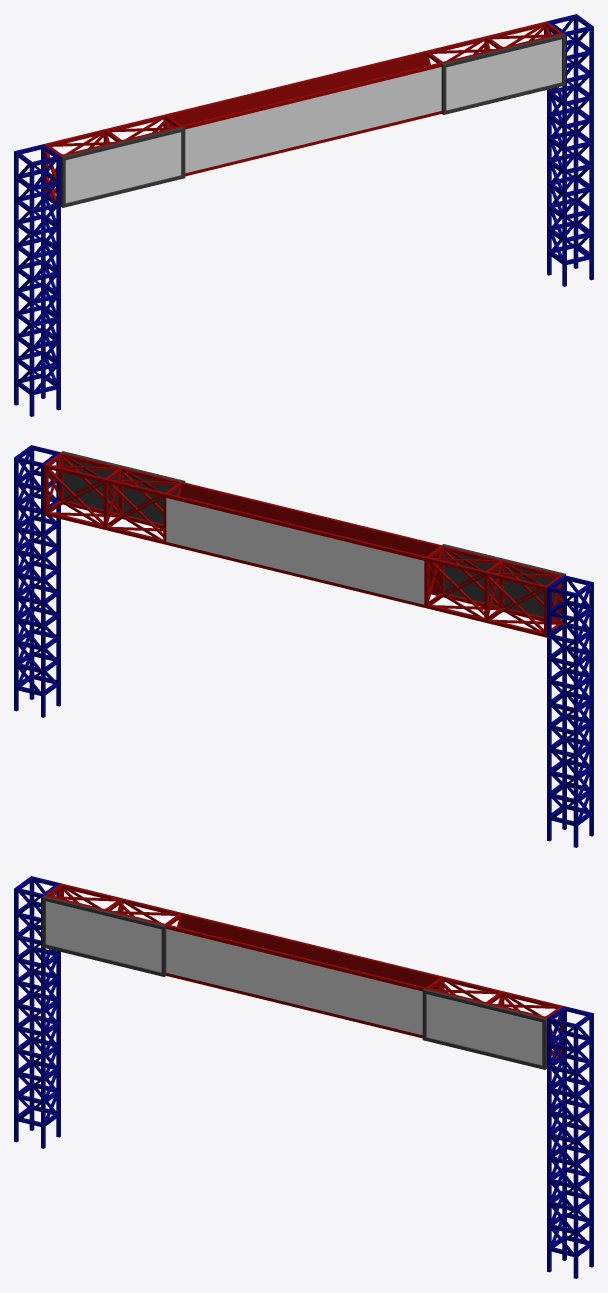
The model's file is start.glb.
3 renders of one model, top to bottom at view 1: azimuth 30°, elevation 25°; view 2: azimuth 150°, elevation 25°; view 3: azimuth 330°, elevation 25°, orthographic.
Parts seen in each view (by area): view 1: Starting Line_Starting Sign Mat 1_0, Starting Line_Start Texture_0, Starting Line_Starting Sign Mat 2_0, Starting Line_Ad 1_0, Starting Line_Ad 2_0, Starting Line_Starting Sign Mat 3_0; view 2: Starting Line_Starting Sign Mat 1_0, Starting Line_Starting Sign Mat 2_0, Starting Line_Start Texture_0, Starting Line_Starting Sign Mat 3_0; view 3: Starting Line_Starting Sign Mat 1_0, Starting Line_Start Texture_0, Starting Line_Starting Sign Mat 2_0, Starting Line_Ad 2_0, Starting Line_Ad 1_0, Starting Line_Starting Sign Mat 3_0.
Boxes of the visible parts, x1,y1,x2,y2 form: Starting Line_Starting Sign Mat 1_0: [14, 14, 593, 416]; Starting Line_Start Texture_0: [185, 67, 441, 173]; Starting Line_Starting Sign Mat 2_0: [43, 21, 563, 202]; Starting Line_Ad 1_0: [65, 132, 181, 203]; Starting Line_Ad 2_0: [446, 39, 561, 110]; Starting Line_Starting Sign Mat 3_0: [61, 34, 565, 207]; Starting Line_Starting Sign Mat 1_0: [14, 445, 593, 847]; Starting Line_Starting Sign Mat 2_0: [44, 452, 564, 637]; Starting Line_Start Texture_0: [166, 498, 424, 604]; Starting Line_Starting Sign Mat 3_0: [61, 451, 565, 619]; Starting Line_Starting Sign Mat 1_0: [14, 876, 593, 1278]; Starting Line_Start Texture_0: [166, 929, 422, 1035]; Starting Line_Starting Sign Mat 2_0: [44, 883, 563, 1059]; Starting Line_Ad 2_0: [426, 994, 542, 1065]; Starting Line_Ad 1_0: [46, 901, 161, 972]; Starting Line_Starting Sign Mat 3_0: [42, 896, 546, 1069].
Bounding box in the file's own units: 371 × 159 × 21.69.
